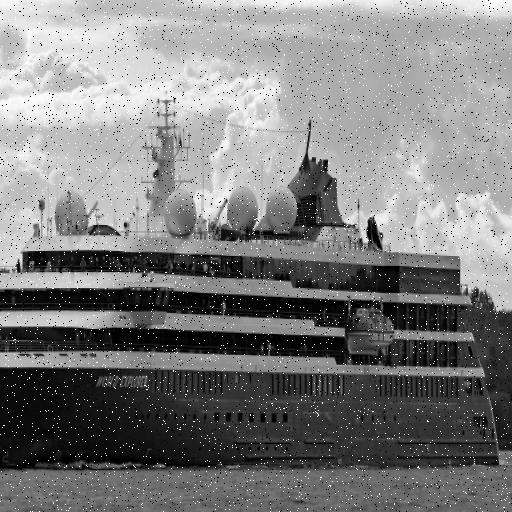cruises: (1, 94, 506, 472)
